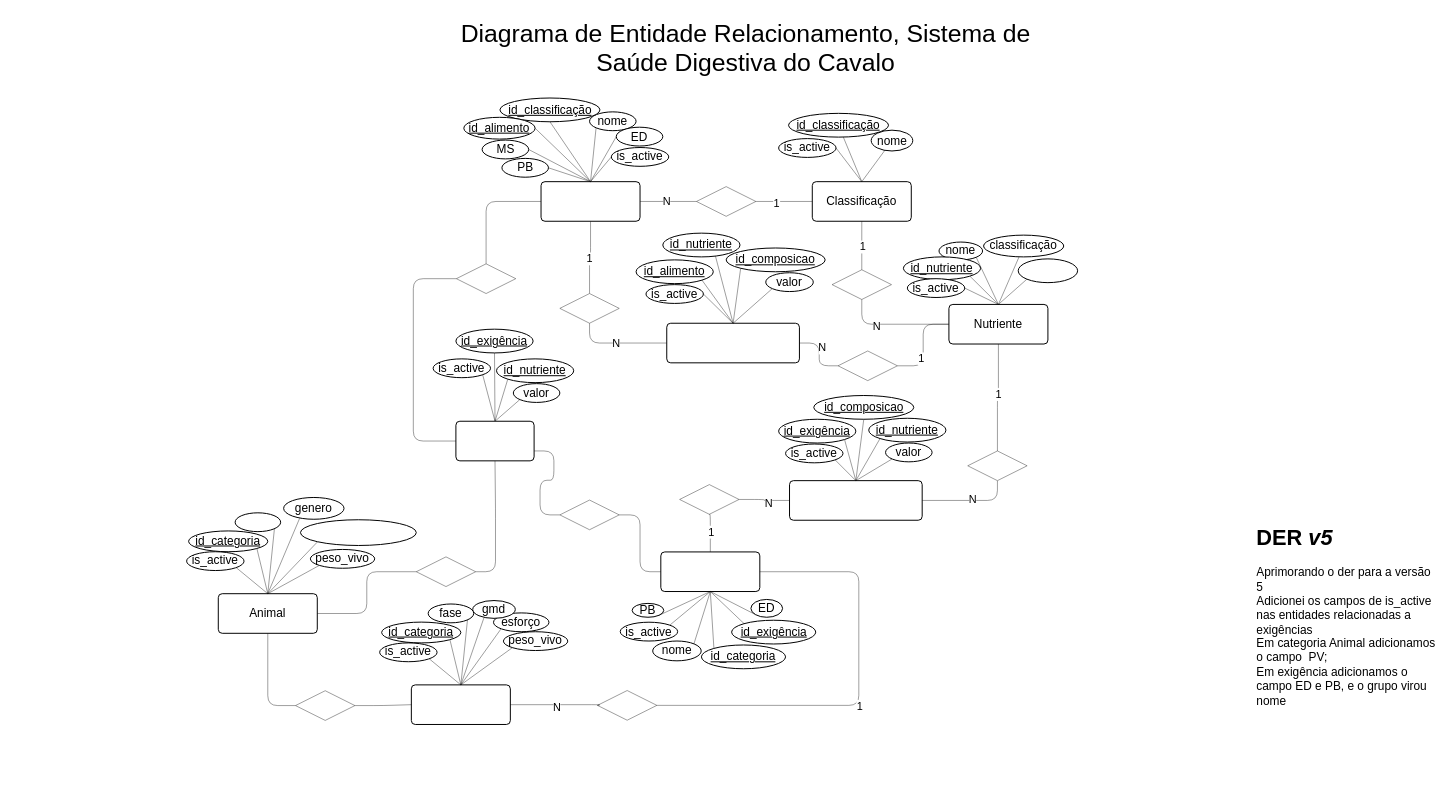
The diagram is 1455 pixels wide and 807 high, and some of its shapes have lost their labels. The shapes that lost their labels are listed below. From the top down, each one's centre as x and y in pixels, then its label:
At (x=590, y=201): "Alimento".
At (x=1047, y=270): "unidade".
At (x=732, y=342): "ComposiçãoAlimento".
At (x=494, y=440): "Dieta".
At (x=855, y=500): "ComposiçãoExigência".
At (x=257, y=522): "raça".
At (x=357, y=532): "ultima-modificação".
At (x=710, y=571): "Exigência".
At (x=460, y=704): "Categoria Exigencia".
